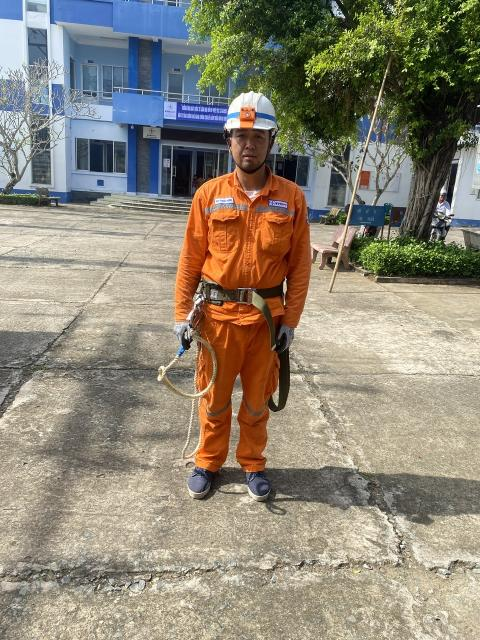gloves: (156, 314, 211, 353), (273, 317, 312, 358)
harness: (166, 257, 307, 304)
helmet: (221, 91, 284, 140)
shoes: (232, 445, 283, 505), (182, 452, 230, 503)
